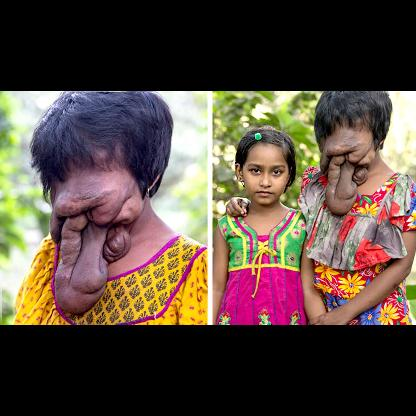Female: (236, 142, 294, 204)
